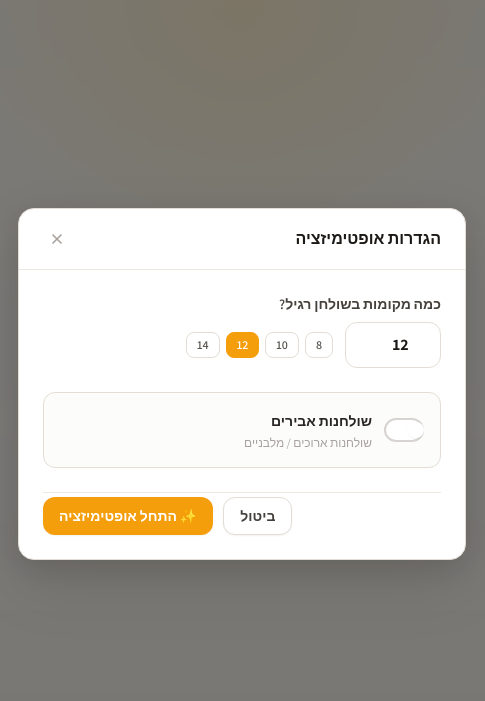
Scenario: OptimizeModal › shows group checkboxes when knight is enabled and groups exist
Step 1. Click the checkbox with test id "optimize-knight-toggle" → click(334, 431), box [244,412,424,450]
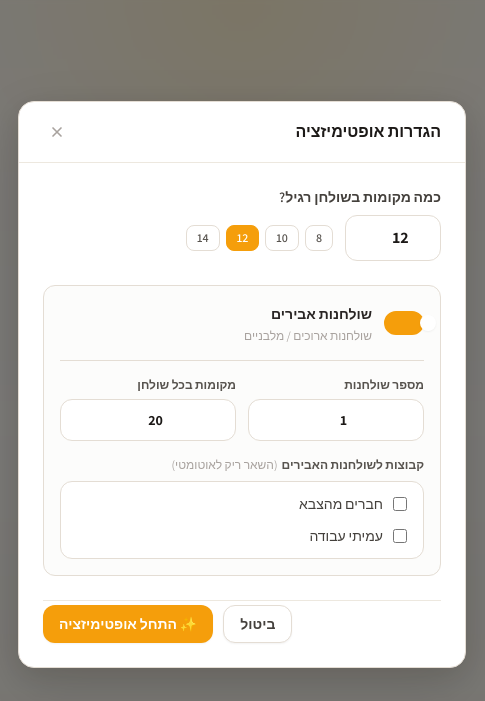
Result: the text "חברים מהצבא" is shown at [299,494,383,514]
Result: the text "עמיתי עבודה" is shown at [309,526,383,546]
